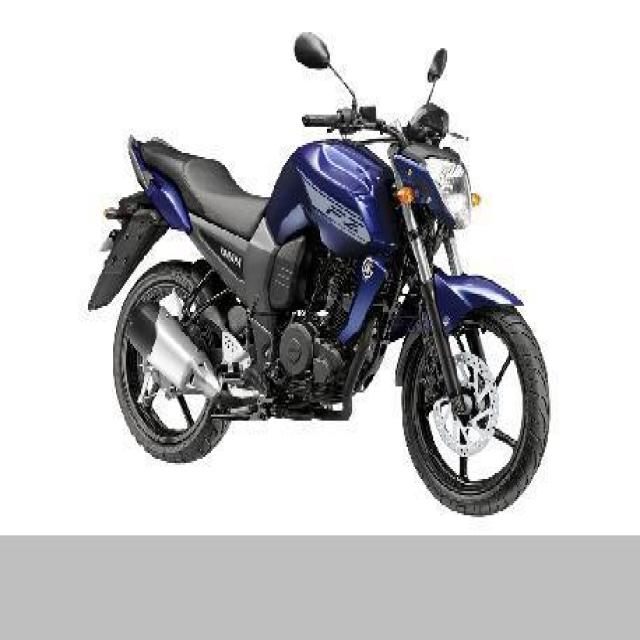motorcycle: (95, 39, 542, 520)
